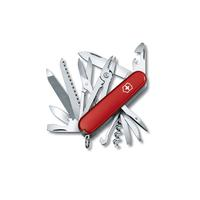knife: (35, 37, 161, 160)
